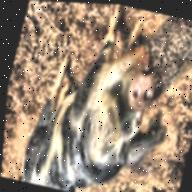boar: (17, 1, 192, 192)
